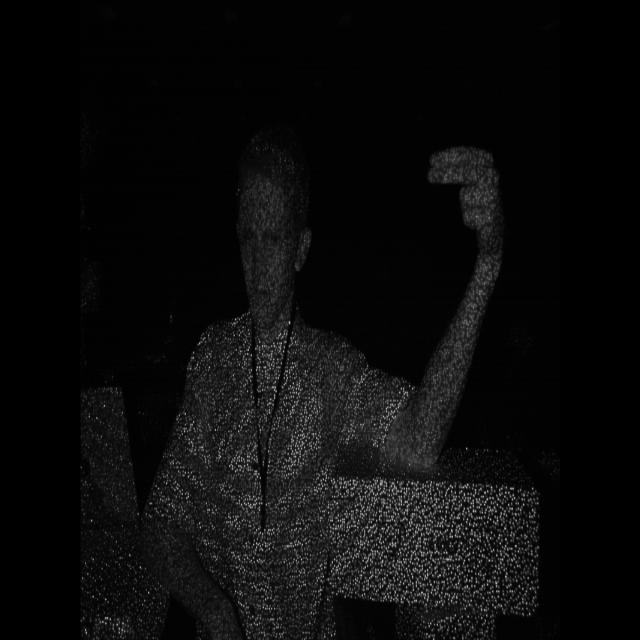H: (414, 122, 528, 297)
